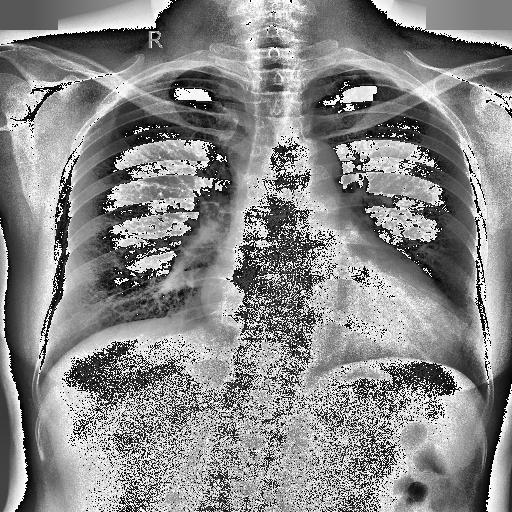0- Aortic enlargement: (270, 137, 346, 196)
3- Cardiomegaly: (198, 274, 464, 376), (198, 266, 464, 364), (196, 270, 456, 364)
